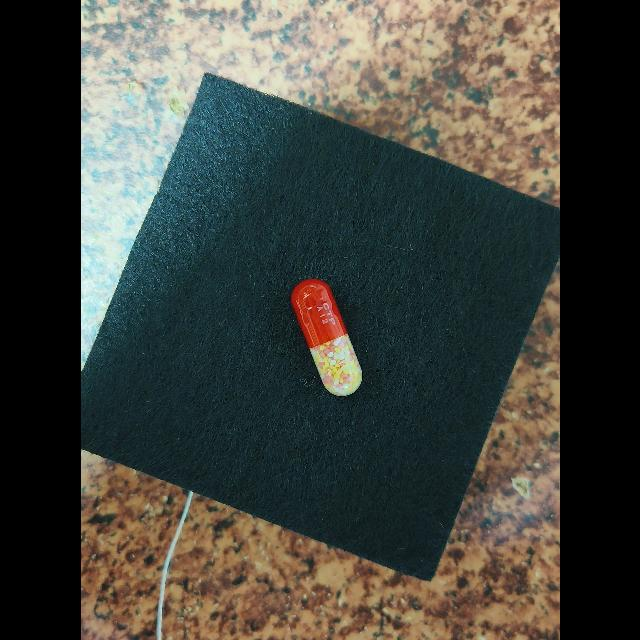Intact Capsule: (290, 279, 362, 396)
